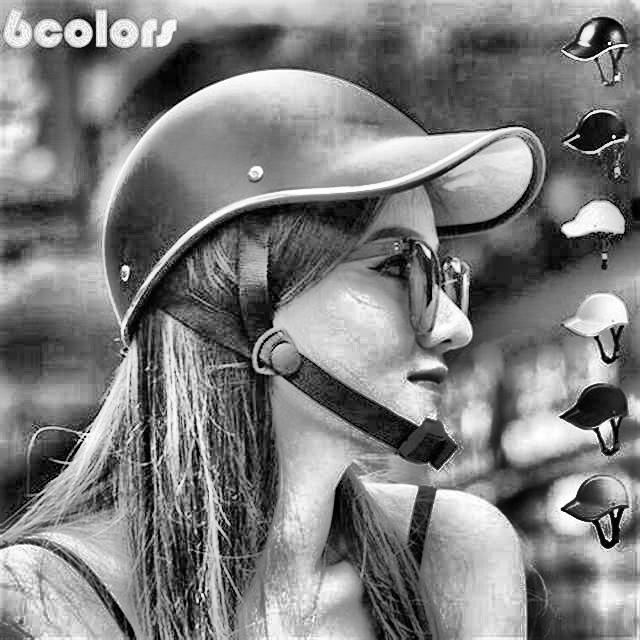Helmet: (90, 60, 550, 472)
